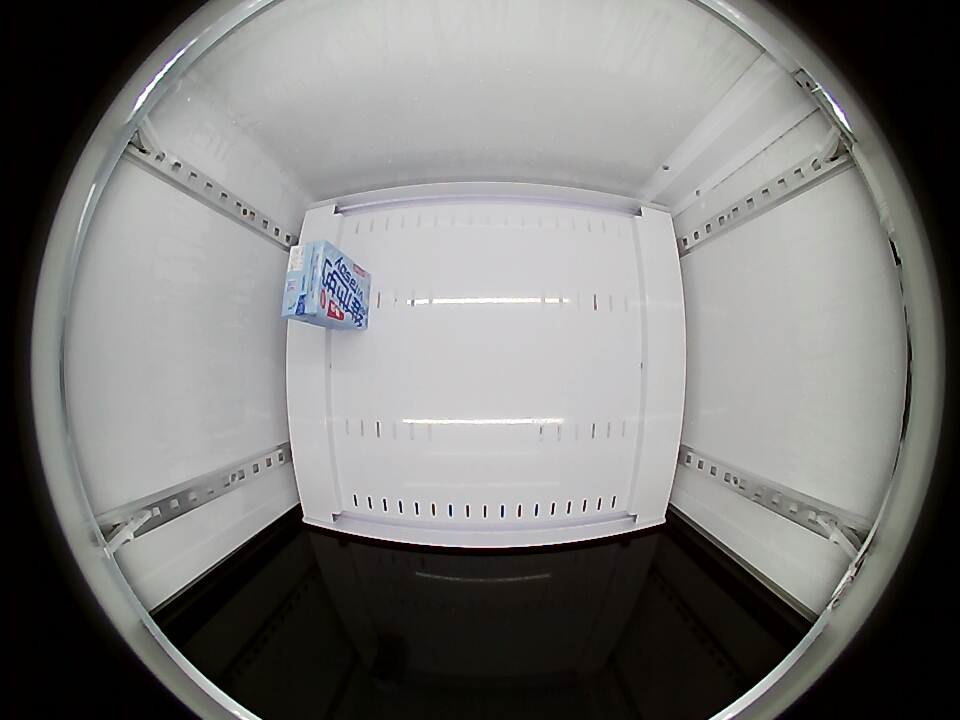weitanaiditang: (282, 239, 344, 322)
